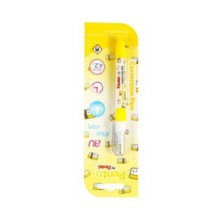book: (81, 19, 141, 201)
correction_fluid: (110, 38, 129, 157)
